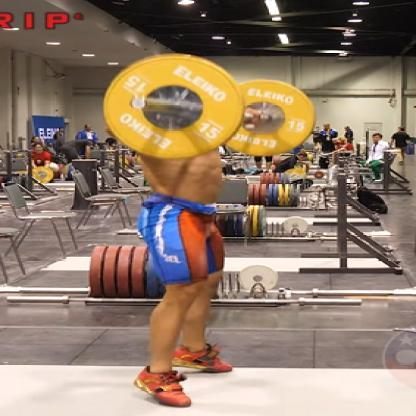Barbell: (126, 94, 155, 114)
